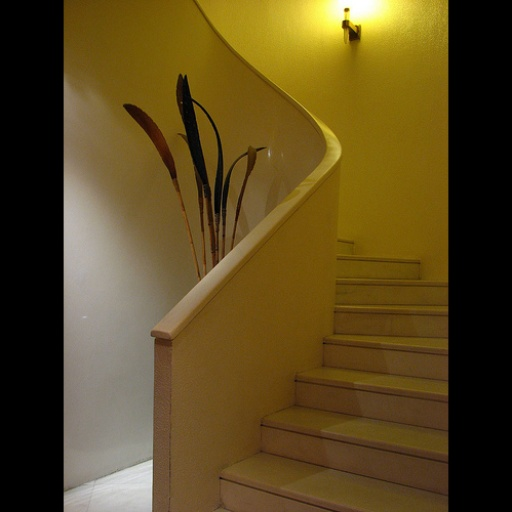Stairs: (216, 256, 446, 512)
